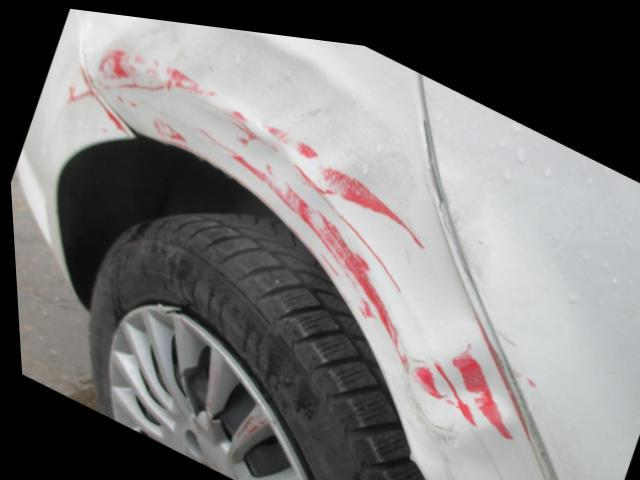dent: (111, 13, 419, 216), (372, 323, 522, 469)
scratch: (207, 135, 402, 352), (262, 117, 420, 237), (392, 345, 463, 480), (42, 62, 132, 142), (96, 44, 215, 92), (448, 333, 508, 427), (219, 96, 288, 144), (431, 351, 472, 414), (408, 357, 441, 388), (151, 113, 184, 136), (104, 85, 137, 108), (412, 357, 428, 368)
